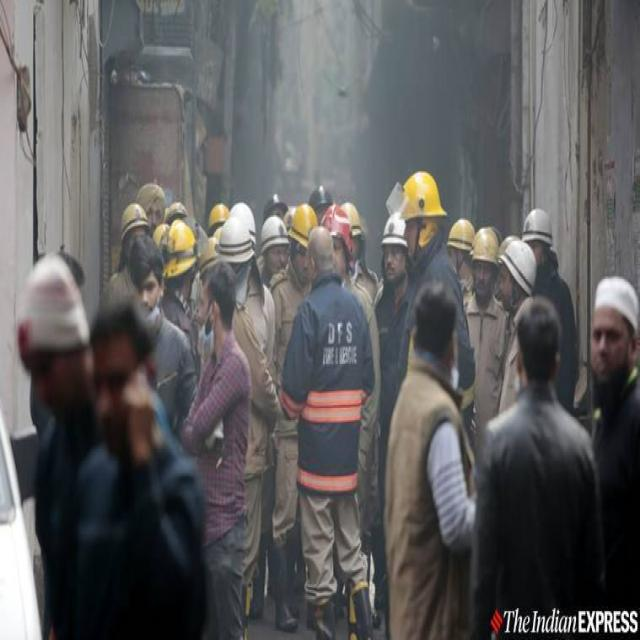Reflective-Jacket: (295, 286, 364, 494)
Safety-Helmet: (9, 241, 100, 372), (399, 166, 446, 224), (216, 198, 256, 258), (519, 203, 556, 244), (288, 198, 318, 248), (470, 221, 501, 267), (116, 199, 148, 241), (259, 211, 291, 252), (379, 210, 409, 250)
